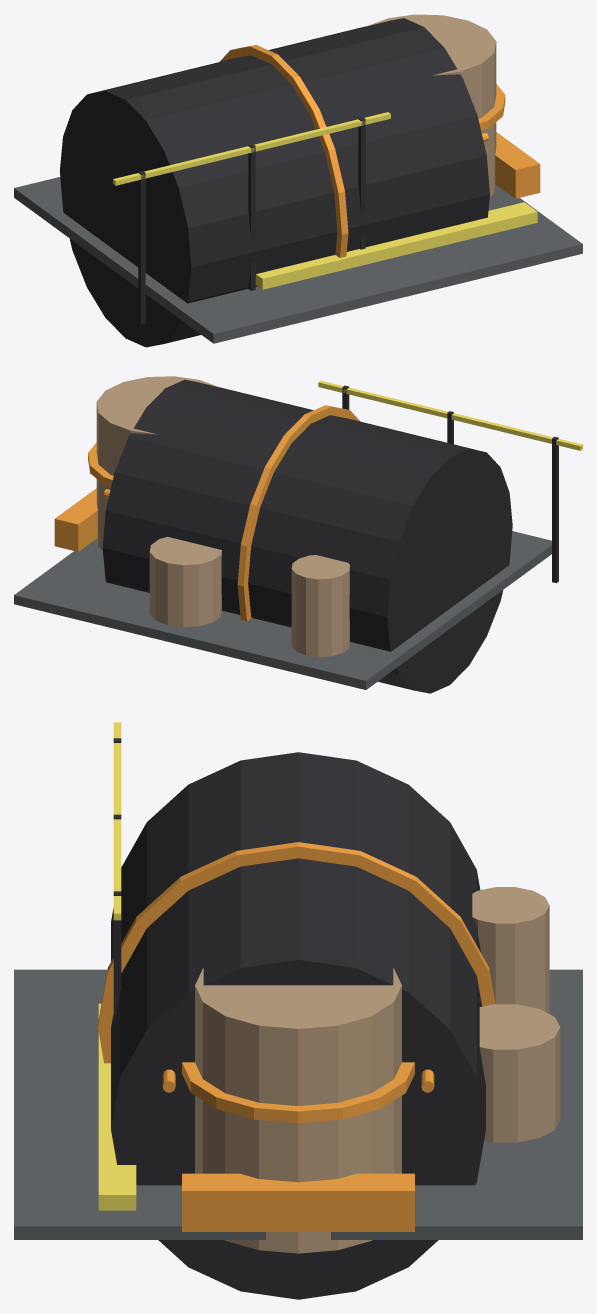
The model's file is SM_Hero_Camp.glb.
The picture shows the model from 3 angles, top to bottom: view 1: azimuth 30°, elevation 25°; view 2: azimuth 150°, elevation 25°; view 3: azimuth 270°, elevation 25°; orthographic projection. The views are drawn at different scales.
Parts seen in each view (by area): view 1: SM_Hero_Camp; view 2: SM_Hero_Camp; view 3: SM_Hero_Camp.
Boxes of the visible parts, bbox=[...] form: SM_Hero_Camp: bbox=[14, 14, 582, 347]; SM_Hero_Camp: bbox=[14, 376, 582, 693]; SM_Hero_Camp: bbox=[14, 722, 582, 1299].
Size of the model in its own units: 6.85 by 3.72 by 5.28.
